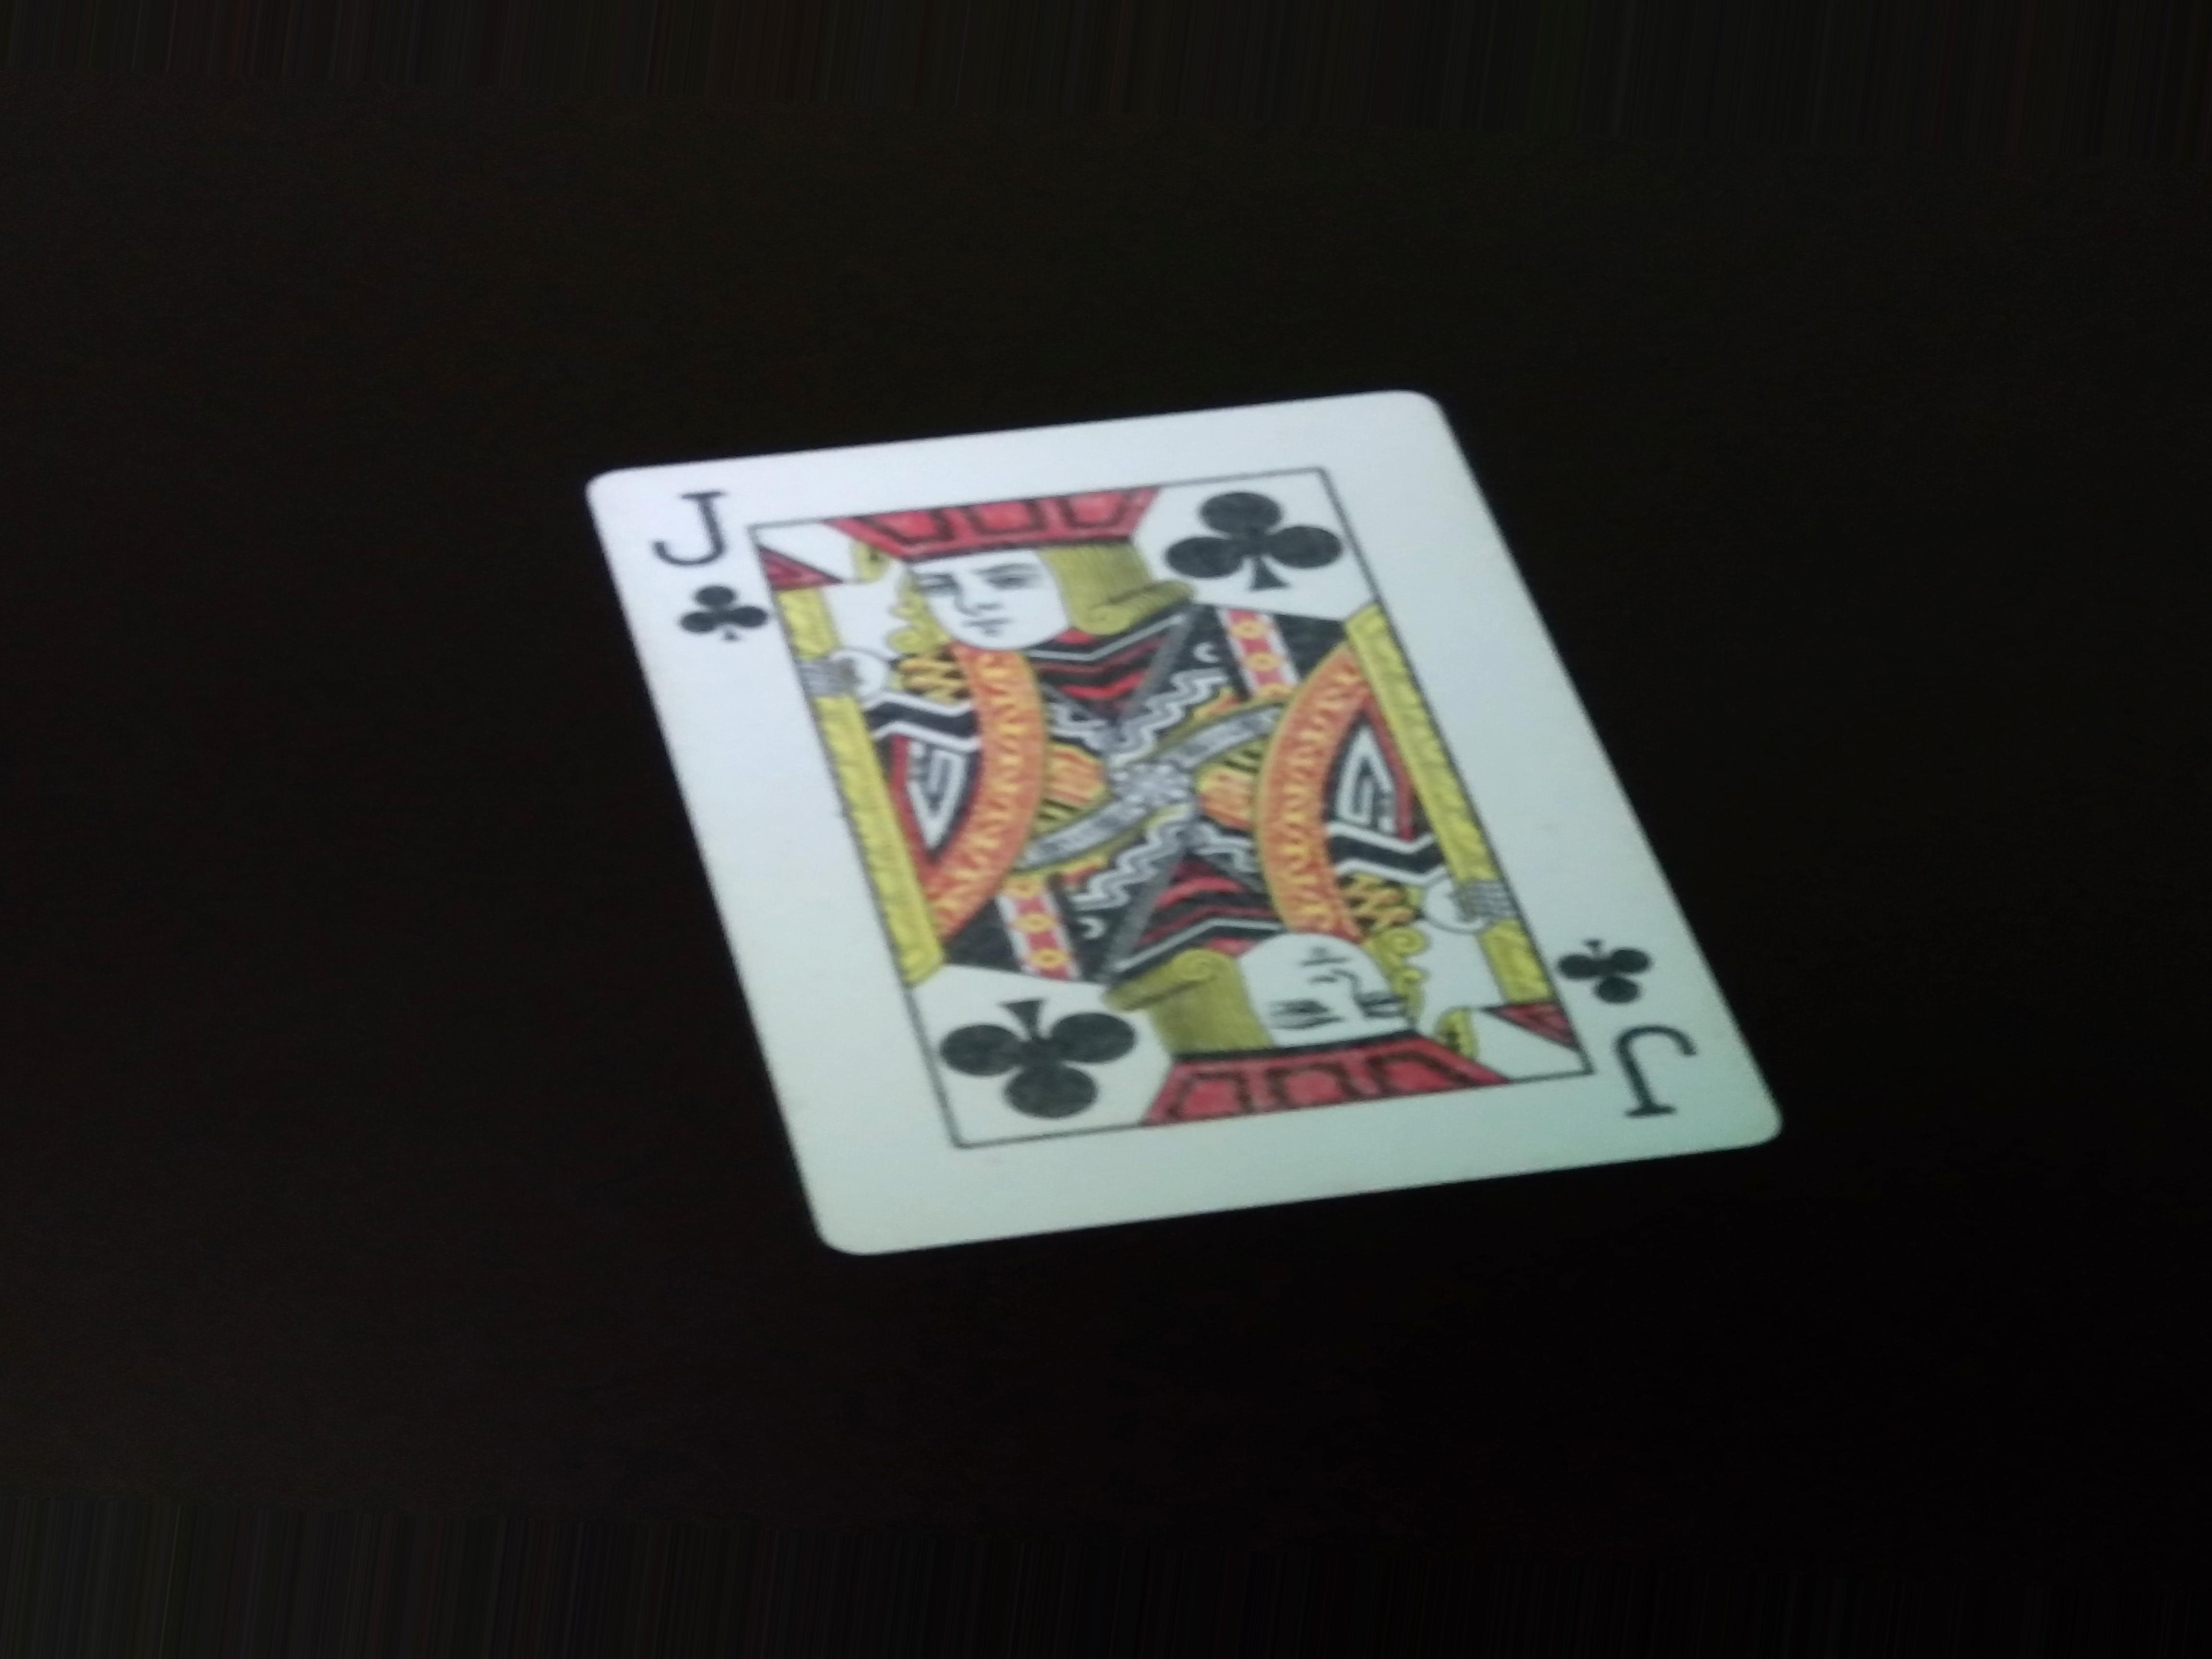JC: (644, 474, 775, 688)
